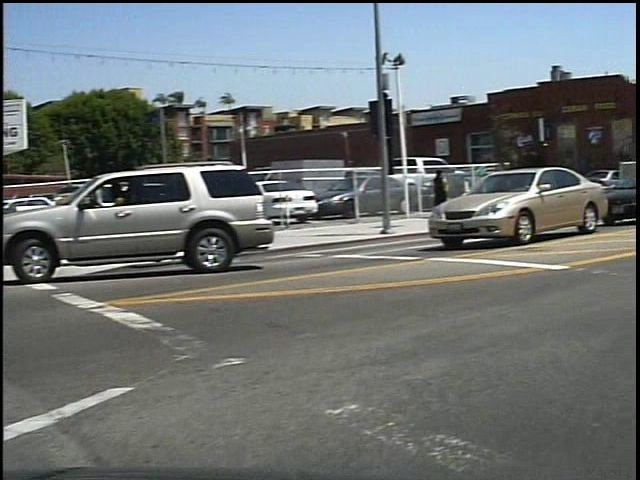person: (437, 166, 463, 224)
